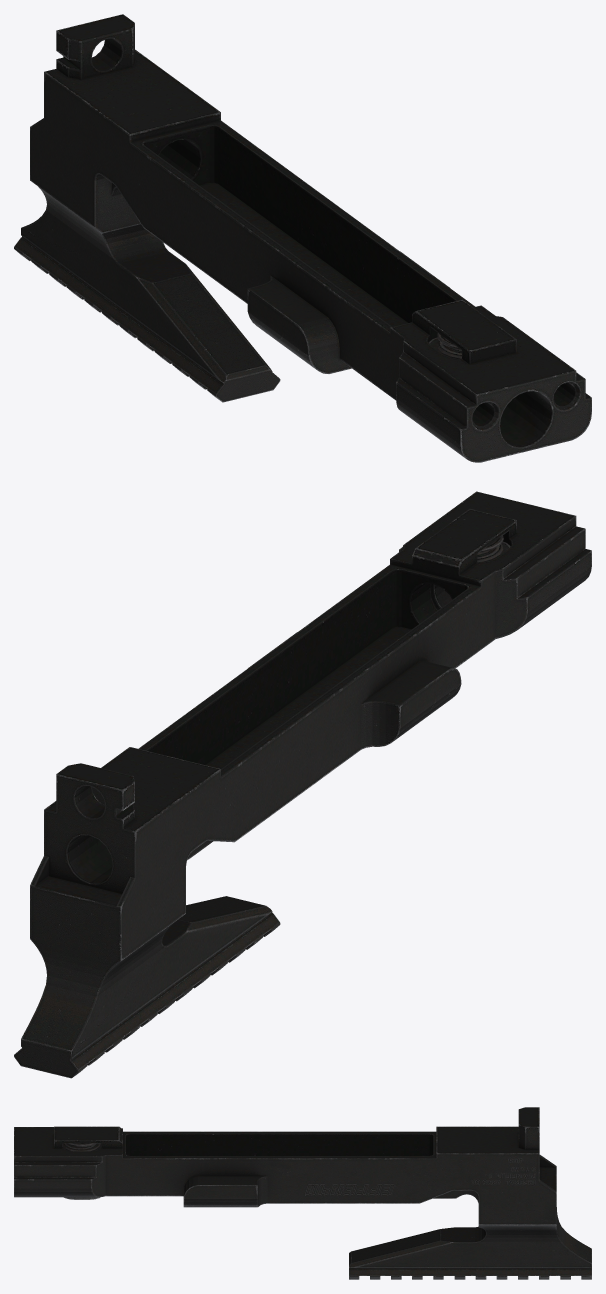
3 renders of one model, top to bottom at view 1: azimuth 30°, elevation 25°; view 2: azimuth 150°, elevation 25°; view 3: azimuth 270°, elevation 25°, orthographic. The views are drawn at different scales.
Parts seen in each view (by area): view 1: TW_5cc700ede4a949033c734315_PZ_Import; view 2: TW_5cc700ede4a949033c734315_PZ_Import; view 3: TW_5cc700ede4a949033c734315_PZ_Import.
Boxes of the visible parts, left/top/right/bottom form: TW_5cc700ede4a949033c734315_PZ_Import: left=14, top=14, right=591, bottom=462; TW_5cc700ede4a949033c734315_PZ_Import: left=14, top=491, right=591, bottom=1078; TW_5cc700ede4a949033c734315_PZ_Import: left=14, top=1107, right=591, bottom=1279.
Size of the model in its own units: 0.029 by 0.1583 by 0.0469.
1 material, 1 textured.
